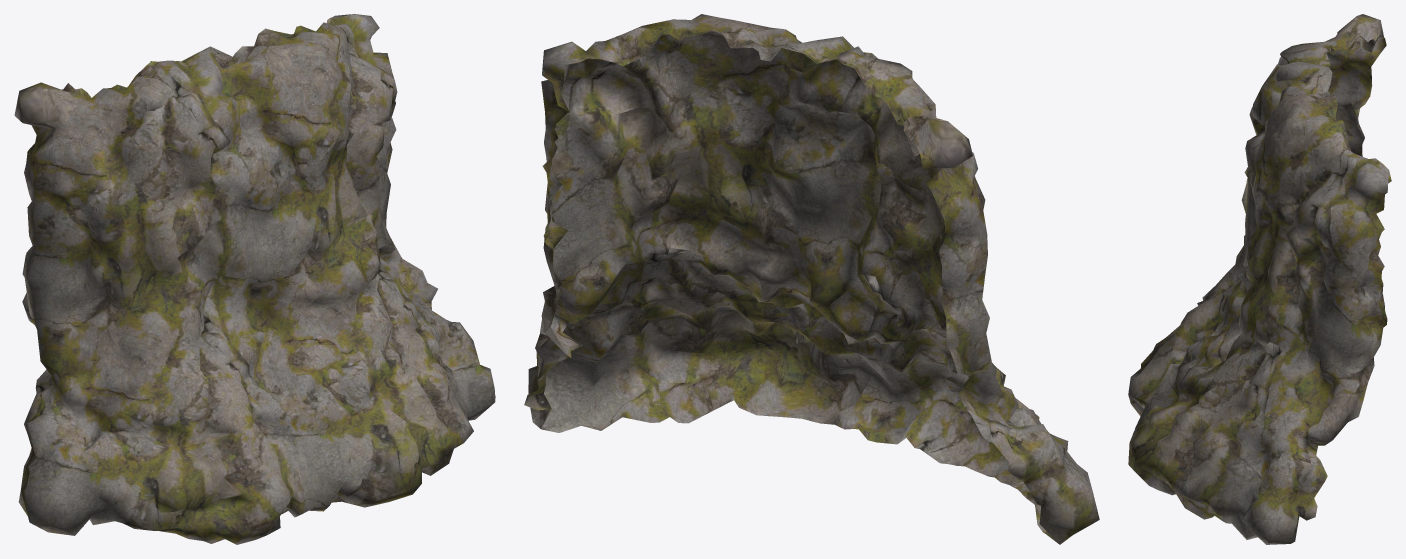
The picture shows the model from 3 angles, left to right: view 1: azimuth 30°, elevation 25°; view 2: azimuth 150°, elevation 25°; view 3: azimuth 270°, elevation 25°; orthographic projection. The views are drawn at different scales.
Parts seen in each view (by area): view 1: Cube.058; view 2: Cube.058; view 3: Cube.058.
Part boxes in pixels (x1,y1,x2,y2): Cube.058: (14, 14, 495, 544); Cube.058: (524, 14, 1099, 544); Cube.058: (1128, 14, 1391, 544).
Bounding box in the file's own units: 45.89 × 38.01 × 23.77.
1 material, 1 textured.
